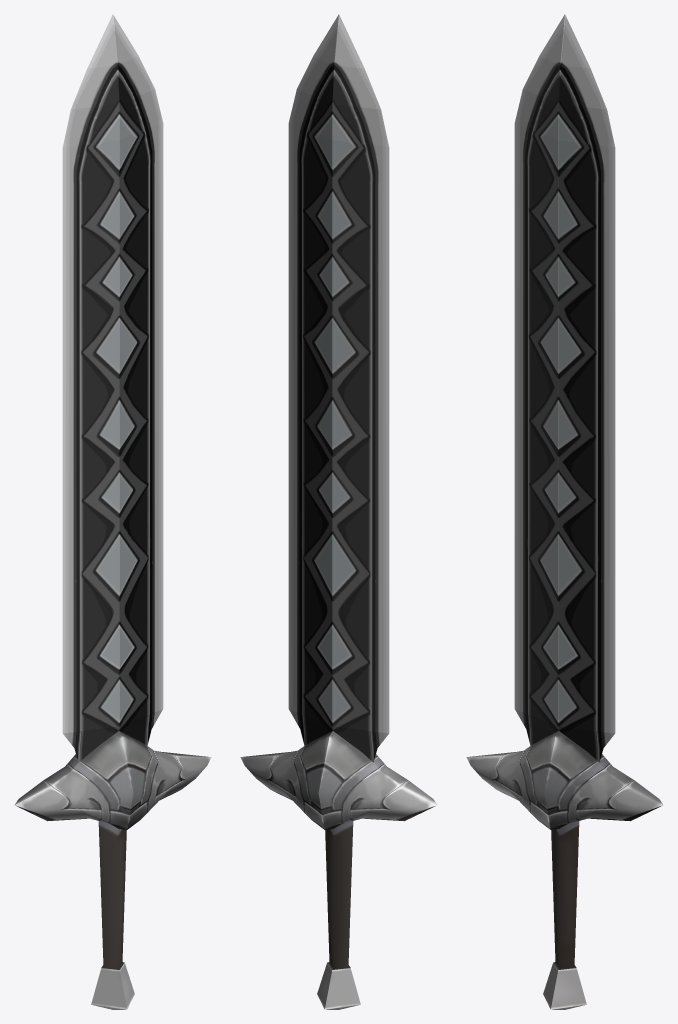
The model's file is wp_sword_nlv40.fbx.
The picture shows the model from 3 angles, left to right: view 1: azimuth 30°, elevation 25°; view 2: azimuth 150°, elevation 25°; view 3: azimuth 330°, elevation 25°; orthographic projection.
Parts seen in each view (by area): view 1: wp_sword_nlv_40; view 2: wp_sword_nlv_40; view 3: wp_sword_nlv_40.
Boxes of the visible parts, bbox=[...] form: wp_sword_nlv_40: bbox=[14, 14, 211, 1009]; wp_sword_nlv_40: bbox=[240, 14, 437, 1009]; wp_sword_nlv_40: bbox=[466, 14, 663, 1009].
Size of the model in its own units: 31.23 by 151 by 11.22.
